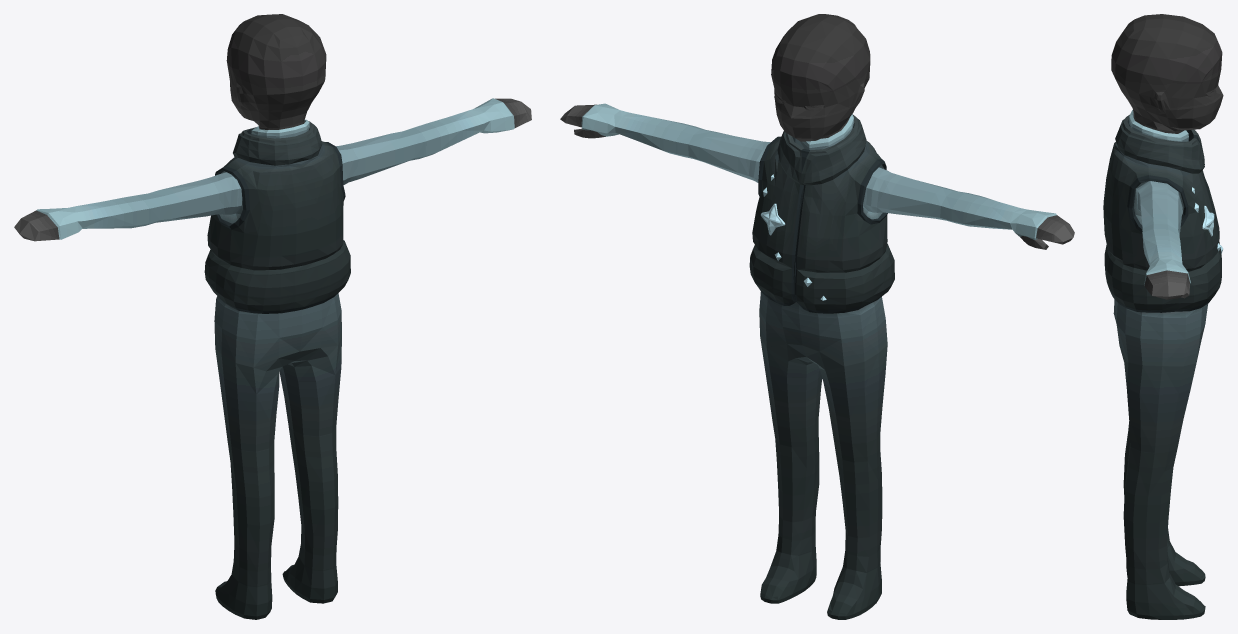
The model's file is CharSkyKid_Body_TriumphSkateOutfit.glb.
The picture shows the model from 3 angles, left to right: view 1: azimuth 30°, elevation 25°; view 2: azimuth 150°, elevation 25°; view 3: azimuth 270°, elevation 25°; orthographic projection.
Visible parts, largest first — view 1: CharSkyKid_Body_TriumphSkateOutfit; view 2: CharSkyKid_Body_TriumphSkateOutfit; view 3: CharSkyKid_Body_TriumphSkateOutfit.
Boxes of the visible parts, x1,y1,x2,y2 form: CharSkyKid_Body_TriumphSkateOutfit: (14,14,531,619); CharSkyKid_Body_TriumphSkateOutfit: (560,14,1074,619); CharSkyKid_Body_TriumphSkateOutfit: (1103,14,1223,619).
Bounding box in the file's own units: 13.83 × 14.94 × 2.82.
1 material, 1 textured.
